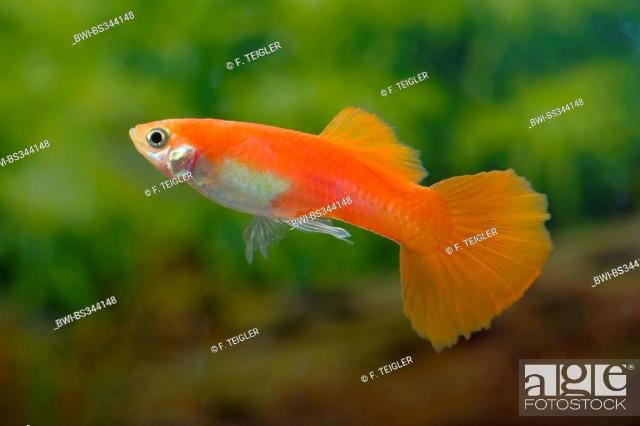Mulut: (110, 102, 154, 152)
Sirip Anal: (284, 212, 374, 251)
Sirip Dada: (177, 127, 287, 203)
Sirip Ekor: (398, 167, 553, 360), (316, 103, 429, 186)
Sirip Perut: (235, 205, 285, 281)
